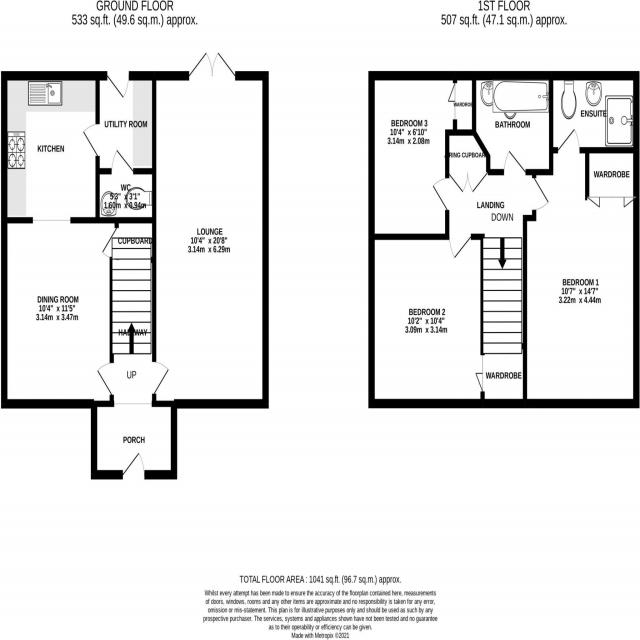DOOR: (101, 70, 131, 101), (118, 451, 147, 479), (447, 232, 476, 260), (553, 126, 582, 154), (431, 174, 450, 216), (95, 359, 114, 400), (152, 360, 171, 400), (532, 174, 551, 213), (502, 146, 527, 175), (82, 121, 99, 157)
DOUBLE DOOR: (187, 50, 237, 81)
ROOM: (1, 71, 153, 409), (152, 49, 269, 409), (525, 151, 640, 408), (368, 234, 484, 408), (368, 71, 474, 240)
